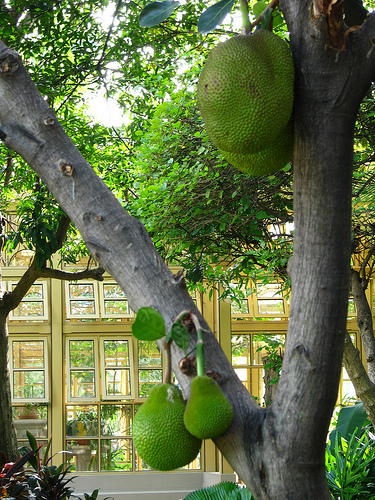jackfruit: (193, 5, 298, 157), (130, 373, 203, 471), (216, 122, 298, 178), (181, 375, 237, 441)
